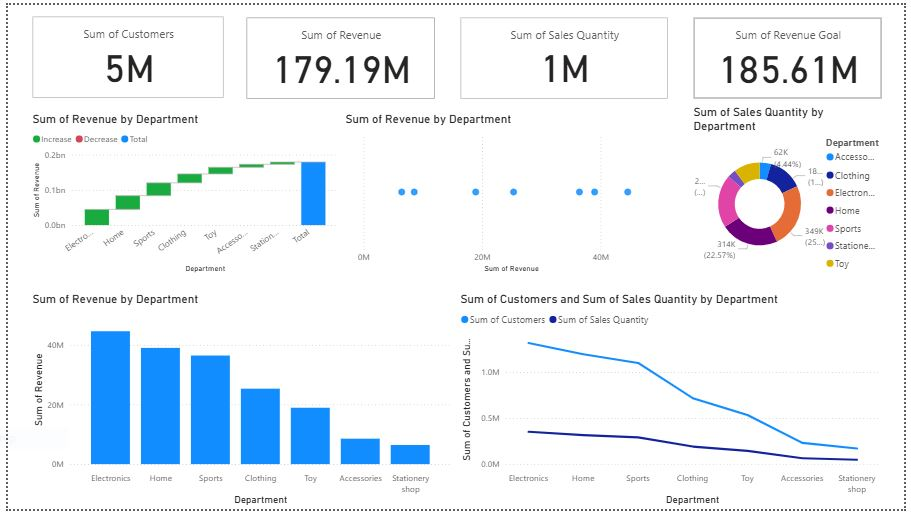

This screenshot's page, from the dashboard's own definition file:
{"tool":"powerbi","page":{"name":"Departmental Store Sales","canvas":[1280,720],"ordinal":0},"visuals":[{"type":"cardVisual","fields":{"Data":["Sum(department_store_dataset.Customers)"]},"box":[29.7,11.9,283.9,126.4],"z":0},{"type":"cardVisual","fields":{"Data":["Sum(department_store_dataset.Revenue)"]},"box":[336.3,12.3,279.9,126.8],"z":1000},{"type":"columnChart","fields":{"Category":["department_store_dataset.Department"],"Y":["Sum(department_store_dataset.Revenue)"]},"box":[29.9,410.2,607.4,309.9],"z":2000},{"type":"cardVisual","fields":{"Data":["Sum(department_store_dataset.Sales Quantity)"]},"box":[640.9,12.3,306.4,126.8],"z":3000},{"type":"cardVisual","fields":{"Data":["Sum(department_store_dataset.Revenue Goal)"]},"box":[973.6,12.3,279.9,126.8],"z":4000},{"type":"lineChart","fields":{"Category":["department_store_dataset.Department"],"Y":["Sum(department_store_dataset.Customers)","Sum(department_store_dataset.Sales Quantity)"]},"box":[640.9,410.2,612.7,309.9],"z":5000},{"type":"waterfallChart","fields":{"Category":["department_store_dataset.Department"],"Y":["Sum(department_store_dataset.Revenue)"]},"box":[29.6,153.3,447,234.6],"z":6000},{"type":"donutChart","fields":{"Y":["Sum(department_store_dataset.Sales Quantity)"],"Series":["department_store_dataset.Department"]},"box":[973.6,142.6,279.9,244.7],"z":7000},{"type":"scatterChart","fields":{"X":["Sum(department_store_dataset.Revenue)"],"Category":["department_store_dataset.Department"]},"box":[476.5,153.3,471,234.6],"z":8000}]}

Visuals, with their boxes in screenshot pixels (x1, y1, x2, y2), scaled from the page's 1280x720 canvas onto the 911x515 screenshot:
cardVisual - Sum(department_store_dataset.Customers): box=[21, 9, 223, 99]
cardVisual - Sum(department_store_dataset.Revenue): box=[239, 9, 439, 99]
columnChart - department_store_dataset.Department x Sum(department_store_dataset.Revenue): box=[21, 293, 454, 514]
cardVisual - Sum(department_store_dataset.Sales Quantity): box=[456, 9, 674, 99]
cardVisual - Sum(department_store_dataset.Revenue Goal): box=[693, 9, 892, 99]
lineChart - department_store_dataset.Department x Sum(department_store_dataset.Customers): box=[456, 293, 892, 514]
waterfallChart - department_store_dataset.Department x Sum(department_store_dataset.Revenue): box=[21, 110, 339, 277]
donutChart - Sum(department_store_dataset.Sales Quantity) x department_store_dataset.Department: box=[693, 102, 892, 277]
scatterChart - Sum(department_store_dataset.Revenue) x department_store_dataset.Department: box=[339, 110, 674, 277]
